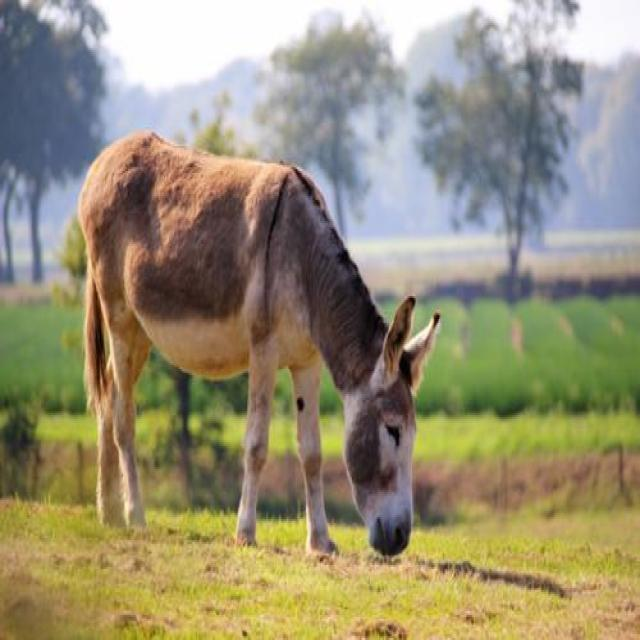Donkey: (76, 126, 442, 562)
